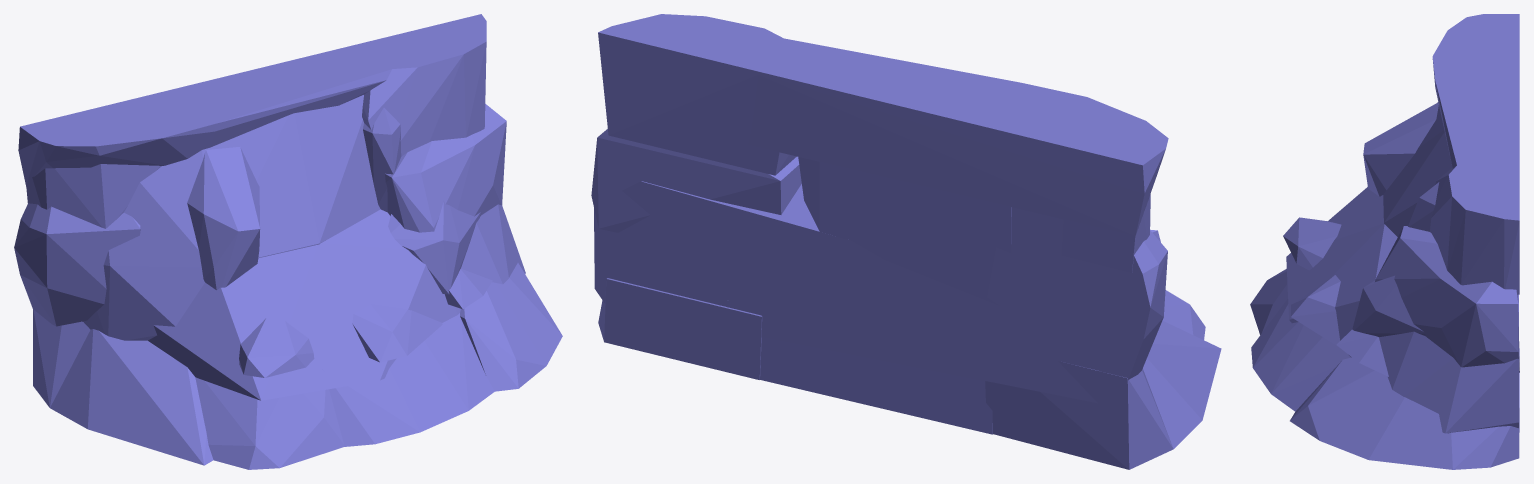
The model's file is Cliff_Wall_01_Slope_Collider_01.FBX.
The picture shows the model from 3 angles, left to right: view 1: azimuth 30°, elevation 25°; view 2: azimuth 150°, elevation 25°; view 3: azimuth 270°, elevation 25°; orthographic projection. The views are drawn at different scales.
Parts seen in each view (by area): view 1: COLLIDER10, COLLIDER7, COLLIDER2, COLLIDER6, COLLIDER3, COLLIDER11, COLLIDER5, COLLIDER12, COLLIDER4, COLLIDER13, COLLIDER1, COLLIDER8 (+6 smaller); view 2: COLLIDER2, COLLIDER10, COLLIDER3, COLLIDER5, COLLIDER7, COLLIDER9, COLLIDER11, COLLIDER1, COLLIDER4, COLLIDER6, COLLIDER8, COLLIDER12; view 3: COLLIDER10, COLLIDER1, COLLIDER2, COLLIDER4, COLLIDER3, COLLIDER11, COLLIDER7, COLLIDER13, COLLIDER18, COLLIDER16, COLLIDER14, COLLIDER12 (+2 smaller).
Boxes of the visible parts, bbox=[...] form: COLLIDER10: bbox=[148, 204, 525, 400]; COLLIDER7: bbox=[82, 95, 380, 340]; COLLIDER2: bbox=[18, 44, 391, 186]; COLLIDER6: bbox=[50, 329, 213, 465]; COLLIDER3: bbox=[342, 14, 486, 156]; COLLIDER11: bbox=[323, 313, 494, 446]; COLLIDER5: bbox=[14, 203, 140, 326]; COLLIDER12: bbox=[195, 377, 343, 469]; COLLIDER4: bbox=[385, 104, 506, 232]; COLLIDER13: bbox=[187, 147, 260, 290]; COLLIDER1: bbox=[460, 263, 562, 391]; COLLIDER8: bbox=[26, 164, 161, 228]; COLLIDER2: bbox=[741, 38, 1168, 235]; COLLIDER10: bbox=[594, 181, 1098, 403]; COLLIDER3: bbox=[598, 14, 798, 175]; COLLIDER5: bbox=[987, 207, 1167, 380]; COLLIDER7: bbox=[798, 157, 1011, 305]; COLLIDER9: bbox=[985, 361, 1173, 469]; COLLIDER11: bbox=[726, 300, 992, 434]; COLLIDER1: bbox=[598, 278, 762, 379]; COLLIDER4: bbox=[591, 129, 801, 232]; COLLIDER6: bbox=[1143, 320, 1221, 448]; COLLIDER8: bbox=[1061, 194, 1150, 272]; COLLIDER12: bbox=[1162, 290, 1205, 339]; COLLIDER10: bbox=[1286, 187, 1518, 433]; COLLIDER1: bbox=[1290, 348, 1519, 469]; COLLIDER2: bbox=[1432, 14, 1519, 168]; COLLIDER4: bbox=[1375, 226, 1519, 372]; COLLIDER3: bbox=[1430, 158, 1519, 294]; COLLIDER11: bbox=[1251, 281, 1350, 411]; COLLIDER7: bbox=[1383, 102, 1452, 236]; COLLIDER13: bbox=[1363, 102, 1438, 196]; COLLIDER18: bbox=[1352, 275, 1425, 336]; COLLIDER16: bbox=[1291, 275, 1340, 346]; COLLIDER14: bbox=[1283, 217, 1341, 270]; COLLIDER12: bbox=[1250, 269, 1287, 334].
Size of the model in its own units: 1292 by 661 by 673.
